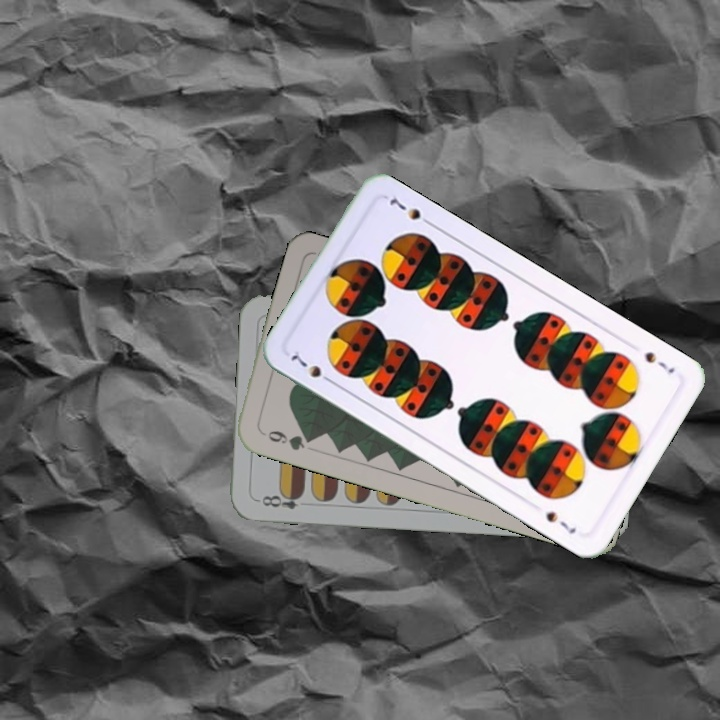E8: (253, 488, 306, 512)
G9: (257, 426, 317, 453)
S7: (286, 346, 337, 387), (640, 347, 678, 377)
